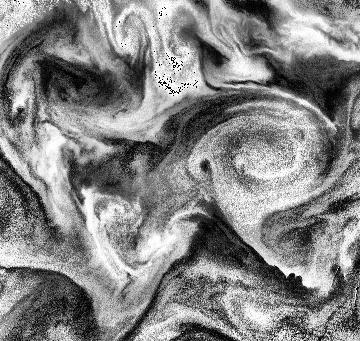AE: (206, 97, 330, 204)
CE: (109, 2, 156, 51)
